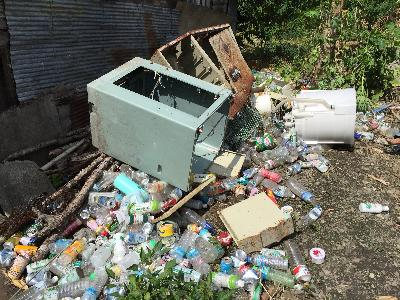bottle: (280, 237, 311, 286), (39, 276, 89, 300), (10, 276, 59, 300), (168, 226, 199, 263), (58, 235, 88, 269), (81, 268, 112, 299), (179, 207, 214, 234), (286, 178, 317, 207), (252, 266, 294, 287), (208, 270, 247, 292), (5, 252, 29, 281), (262, 178, 295, 199), (302, 204, 325, 229), (257, 154, 285, 172), (358, 201, 391, 215), (289, 125, 297, 149)
box: (86, 57, 230, 192), (151, 24, 254, 113), (216, 192, 290, 254), (291, 87, 357, 147)
